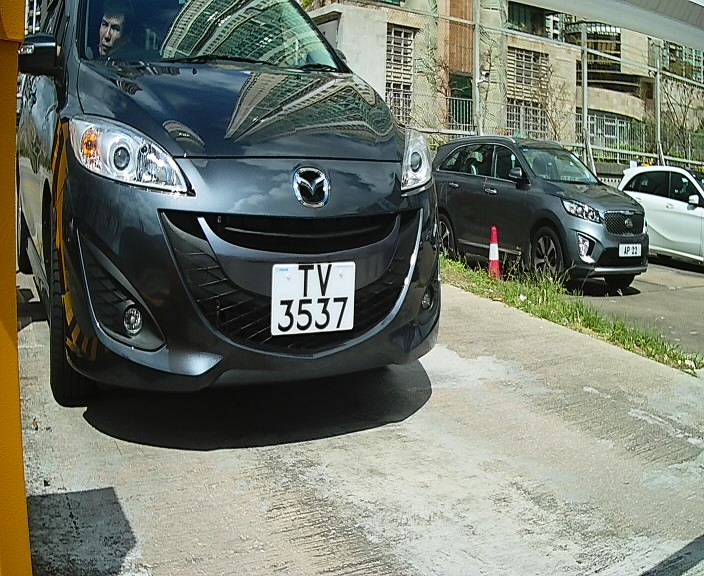Car: (1, 2, 491, 446)
License Plate: (260, 254, 365, 347)
